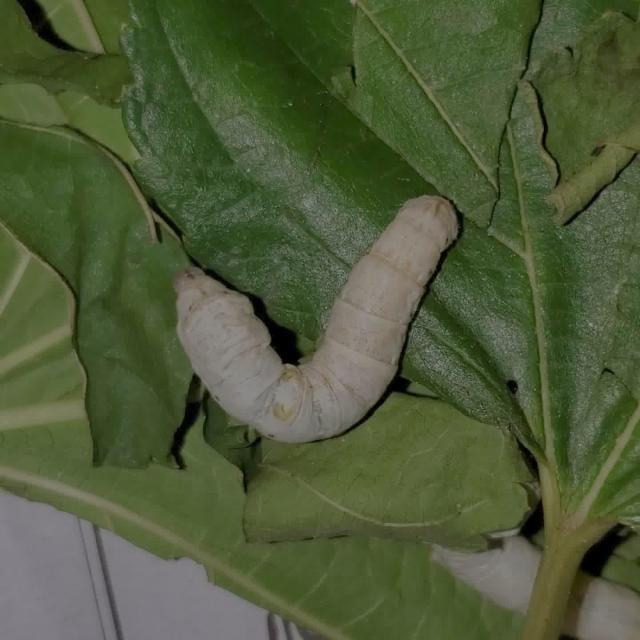Healthy: (150, 172, 468, 471)
